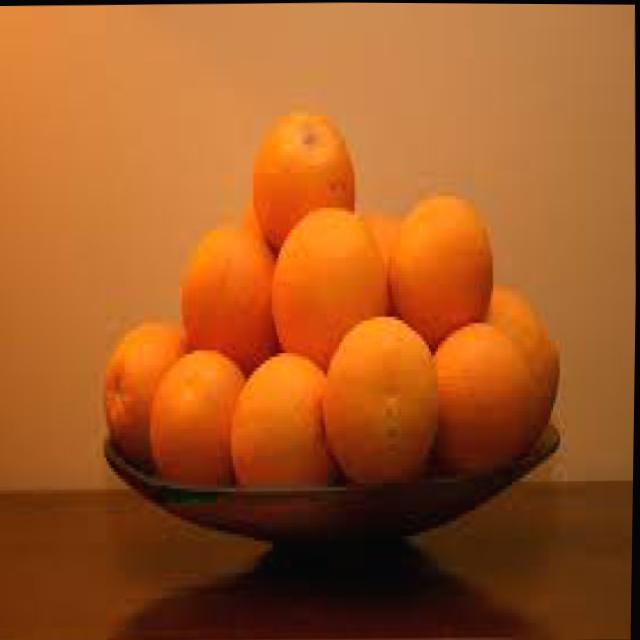orange: (322, 312, 442, 485), (428, 312, 555, 475), (270, 205, 391, 372), (389, 190, 496, 351), (178, 220, 282, 376), (249, 100, 359, 245), (228, 347, 334, 489), (148, 344, 249, 487), (103, 318, 187, 464), (486, 280, 558, 390), (247, 201, 273, 251)
